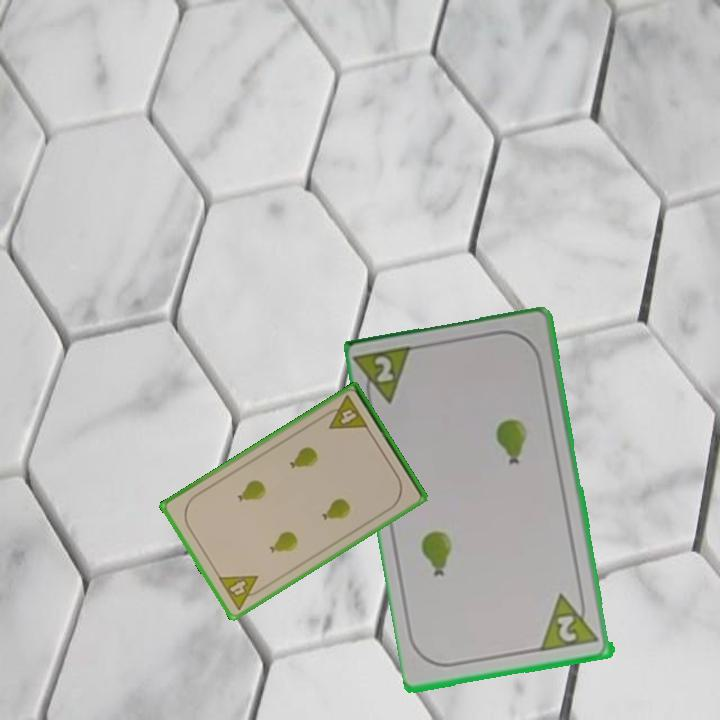2p: (354, 342, 419, 411), (539, 588, 602, 655)
4p: (214, 572, 268, 613), (319, 392, 371, 433)
